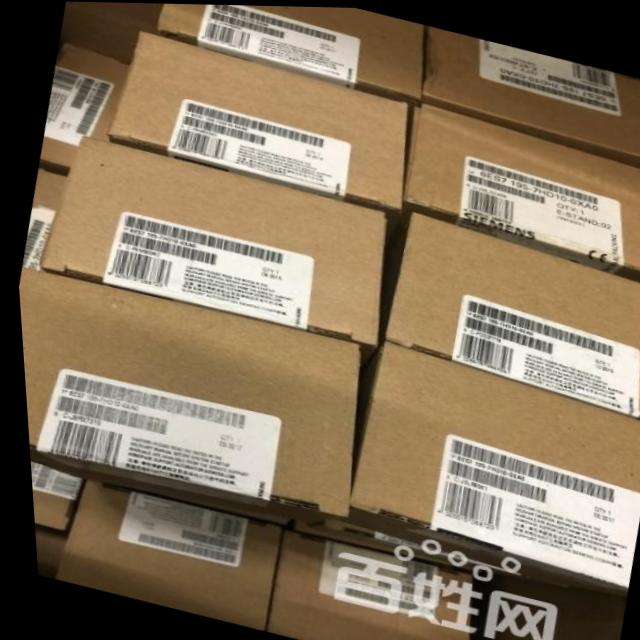box: (15, 265, 350, 515), (343, 337, 640, 587), (35, 135, 386, 345), (103, 32, 409, 211), (381, 213, 640, 418), (402, 103, 640, 278), (47, 478, 277, 628), (424, 24, 640, 162), (154, 3, 426, 103), (260, 530, 464, 640), (37, 40, 127, 169), (19, 171, 66, 269), (24, 458, 77, 531)
